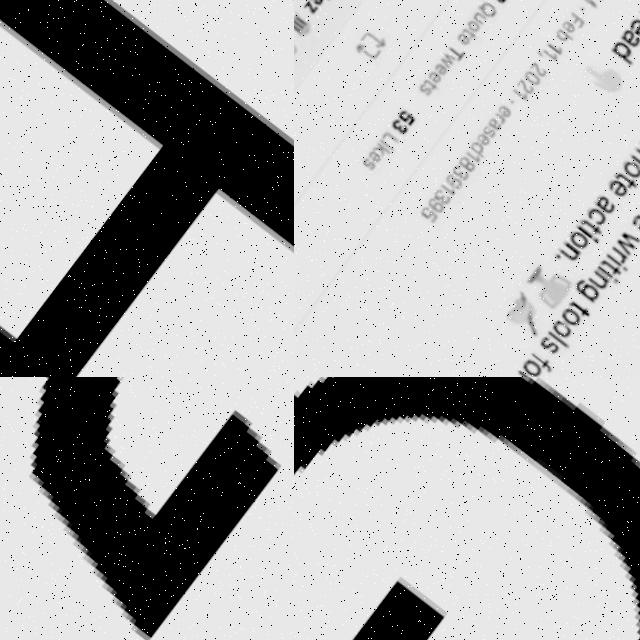0: (524, 62, 544, 81)
1: (511, 77, 531, 94), (542, 39, 561, 55), (548, 32, 566, 47), (467, 143, 484, 158), (443, 176, 460, 191)
2: (530, 53, 551, 72), (518, 71, 537, 88)
3: (453, 157, 474, 176), (435, 181, 456, 200), (392, 112, 412, 131)
5: (398, 103, 418, 121), (422, 201, 442, 218)
8: (459, 148, 480, 168)
9: (446, 166, 467, 185), (429, 191, 448, 208)
A: (594, 184, 620, 209), (620, 18, 640, 40), (488, 110, 504, 125)
B: (555, 20, 575, 37)
C: (587, 196, 612, 220)
D: (611, 30, 639, 58), (470, 133, 491, 152)
E: (608, 167, 634, 193), (497, 96, 515, 113), (426, 62, 444, 79), (455, 23, 472, 40), (628, 6, 640, 29), (477, 125, 494, 140), (434, 57, 451, 72), (370, 144, 386, 159), (631, 202, 640, 227), (563, 12, 577, 26)
F: (532, 343, 559, 366), (568, 5, 586, 21)
G: (294, 377, 640, 640), (0, 377, 294, 640), (577, 269, 606, 295)
H: (0, 0, 294, 377)
I: (579, 215, 605, 237), (598, 255, 624, 276), (609, 245, 632, 264), (381, 133, 396, 145)
K: (376, 138, 394, 155)
L: (551, 324, 573, 341), (383, 126, 402, 143)
M: (631, 129, 640, 160)
N: (590, 260, 615, 284), (561, 232, 586, 256)
O: (553, 308, 579, 334), (568, 219, 594, 244), (563, 297, 587, 322), (525, 350, 549, 373), (621, 147, 640, 172), (467, 12, 483, 28)
Q: (476, 0, 501, 14)
R: (611, 236, 633, 256), (518, 361, 540, 377), (494, 105, 509, 119), (636, 0, 640, 19)
S: (541, 326, 567, 351), (418, 75, 437, 93), (483, 117, 500, 132), (363, 152, 380, 167)
T: (582, 208, 607, 229), (602, 248, 626, 269), (616, 160, 640, 181), (572, 291, 596, 311), (447, 36, 467, 56), (463, 19, 481, 34), (424, 71, 442, 86)
U: (472, 2, 489, 18)
W: (615, 219, 640, 249), (437, 43, 458, 64)
Z: (302, 0, 321, 12)
